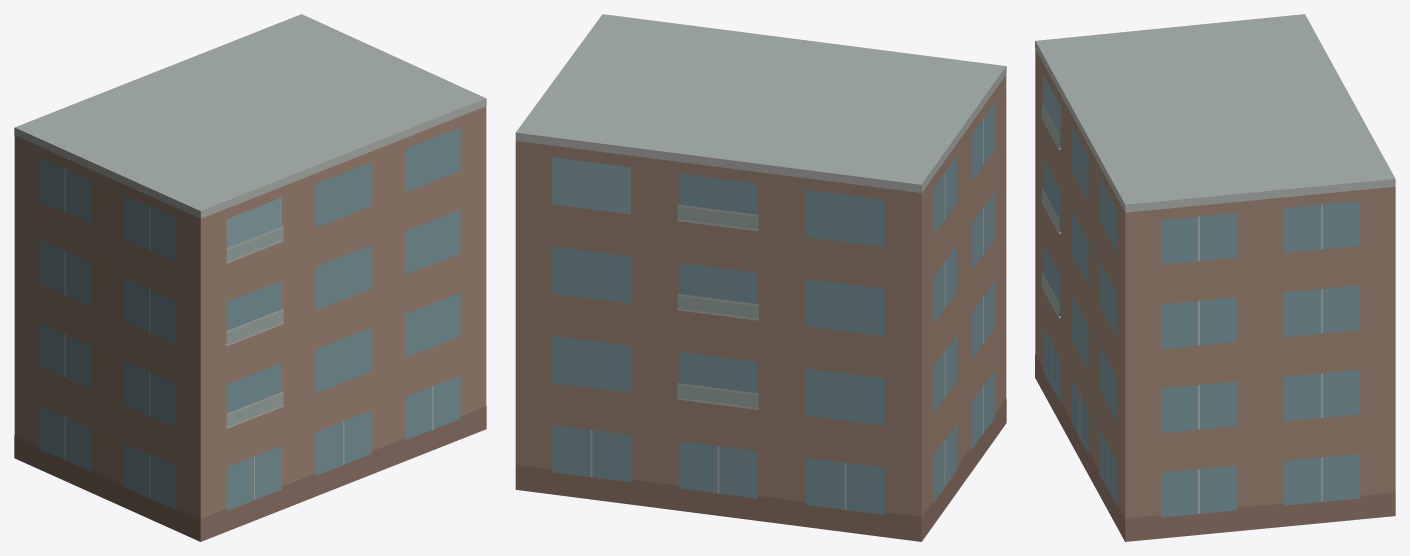
The model's file is survey-upis-32598447.glb.
The picture shows the model from 3 angles, left to right: view 1: azimuth 30°, elevation 25°; view 2: azimuth 150°, elevation 25°; view 3: azimuth 270°, elevation 25°; orthographic projection. The views are drawn at different scales.
Parts seen in each view (by area): view 1: survey-upis-32598447.tmp; view 2: survey-upis-32598447.tmp; view 3: survey-upis-32598447.tmp.
Boxes of the visible parts, x1,y1,x2,y2 form: survey-upis-32598447.tmp: (14,14,486,541); survey-upis-32598447.tmp: (515,14,1006,541); survey-upis-32598447.tmp: (1035,14,1395,541).
Bounding box in the file's own units: 12.76 × 10.5 × 10.18.
